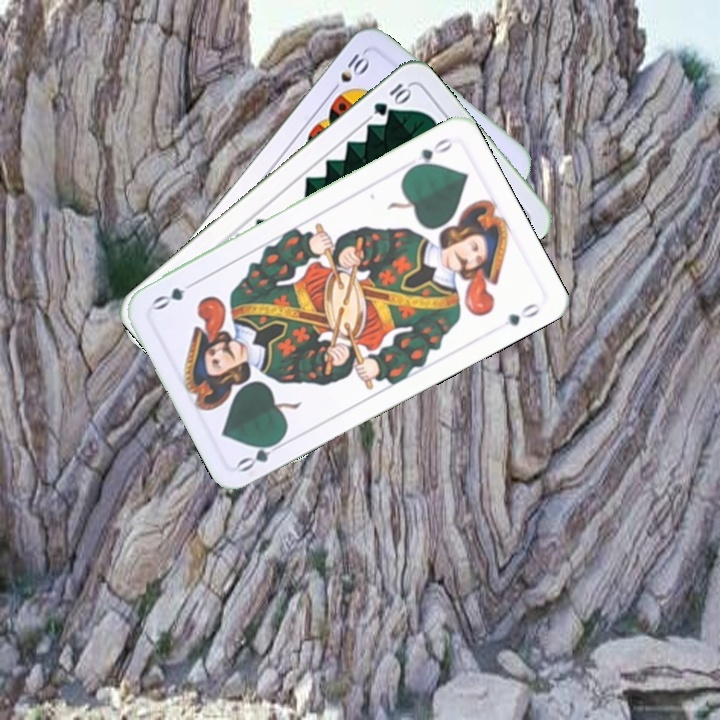G10: (369, 79, 414, 119)
GO: (233, 433, 289, 475), (404, 134, 456, 173)
S10: (326, 48, 373, 97)
